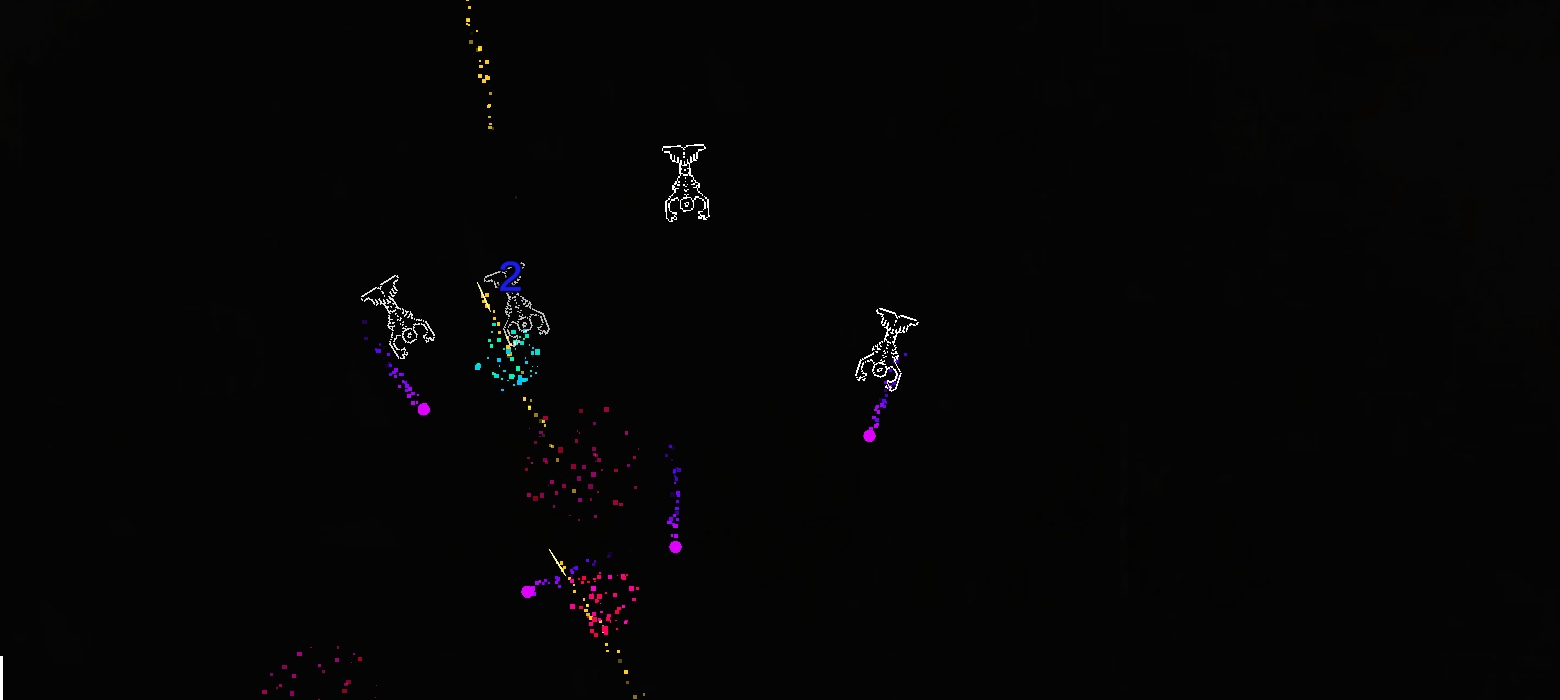enemy: (360, 275, 435, 360), (484, 261, 550, 347), (854, 307, 919, 392), (662, 143, 710, 222)
